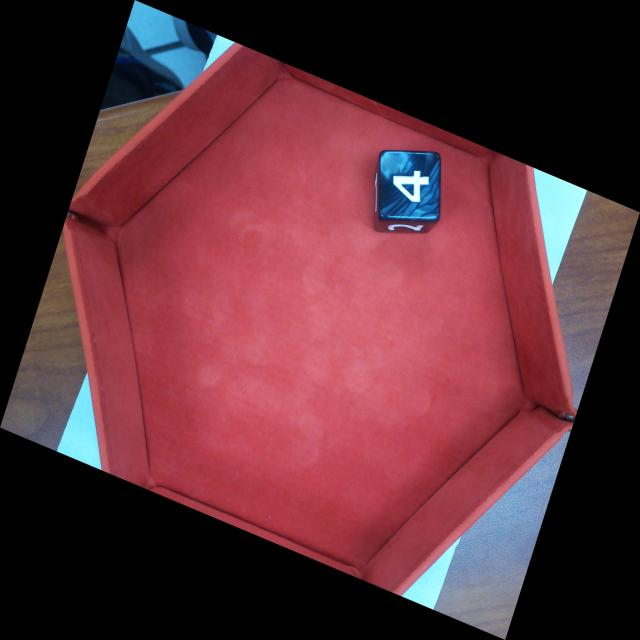dice: (377, 148, 443, 222)
